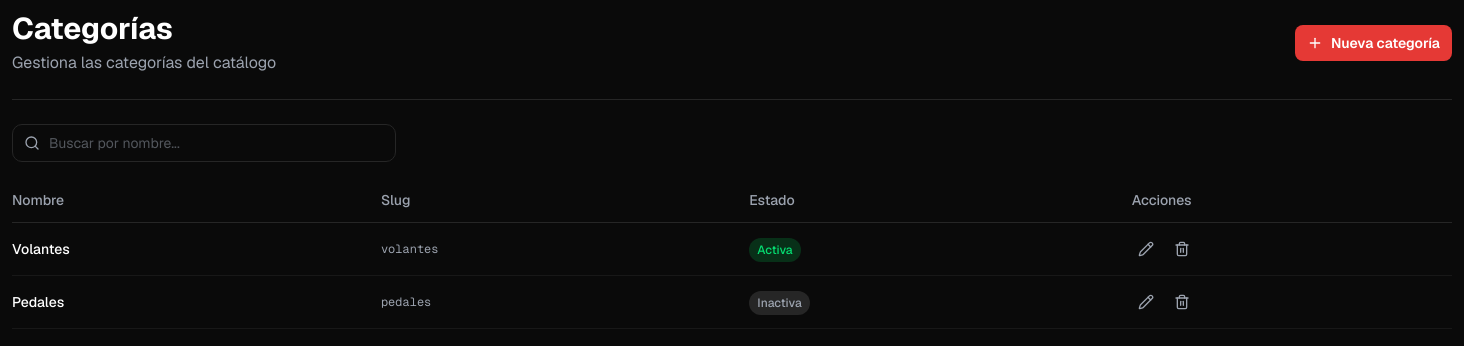
Test case: CategoriesContent › eliminar › al hacer clic en No oculta la confirmación
The width and height of the screenshot is (1464, 346).
Expected: the text "Volantes" is shown, x1=12 y1=222 x2=381 y2=276
Click the 1st button titled "Eliminar": (1182, 249) x1=1168 y1=235 x2=1196 y2=263
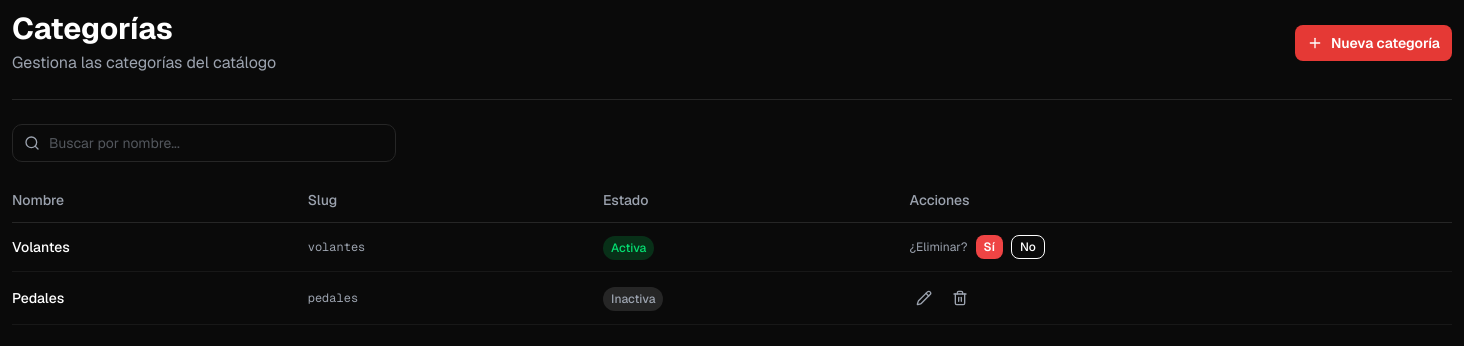
Click the button "No": (1028, 247) x1=1011 y1=235 x2=1045 y2=259
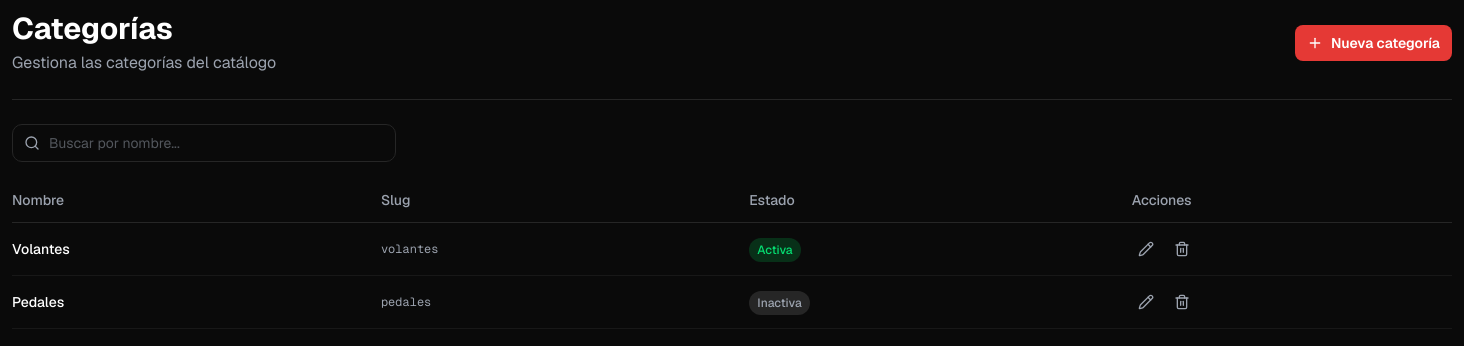
Now the text "¿Eliminar?" is gone
